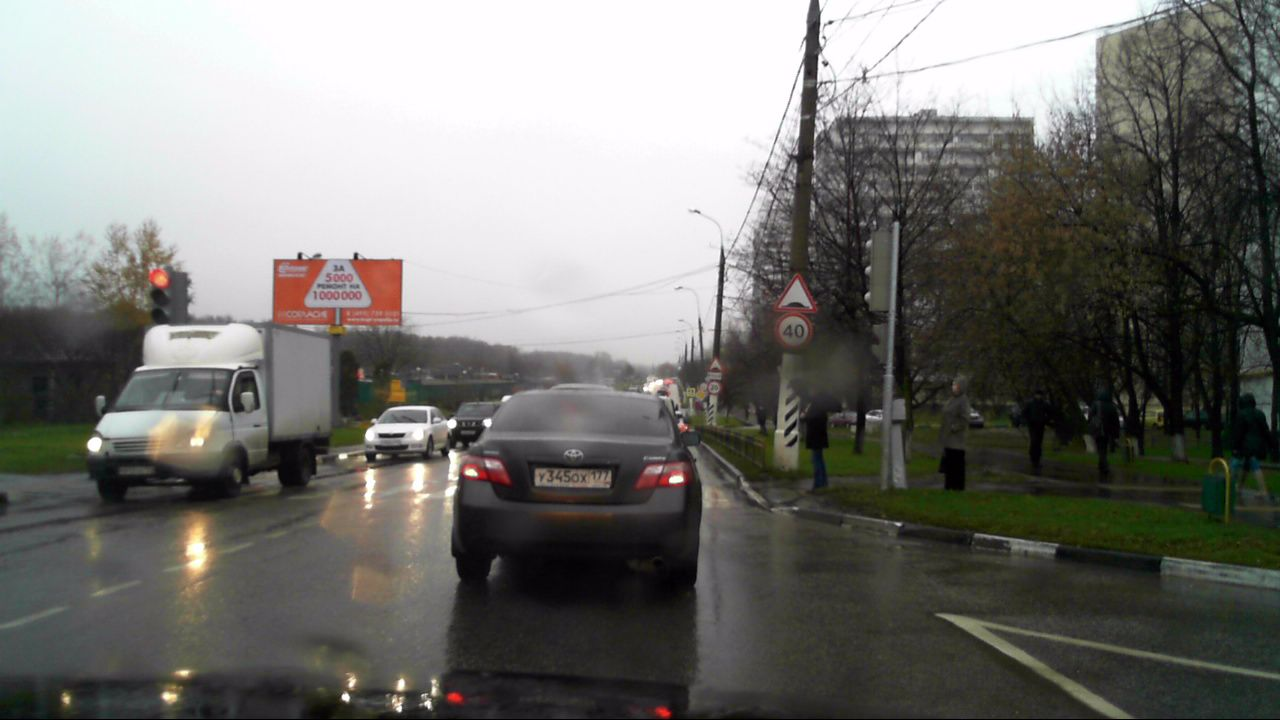speed_warning_40: (775, 313, 812, 349)
